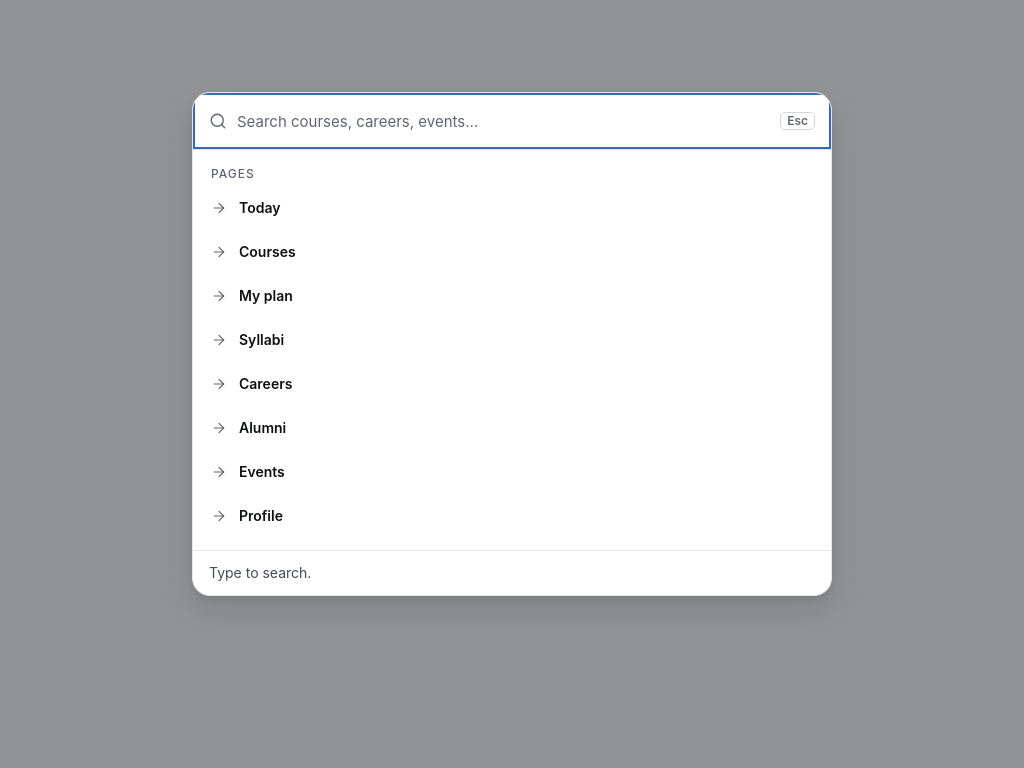
CommandPalette › ignores stale responses when the query changes
Type "la" into the dropdown at point(500, 121), box [237,93,762,149]
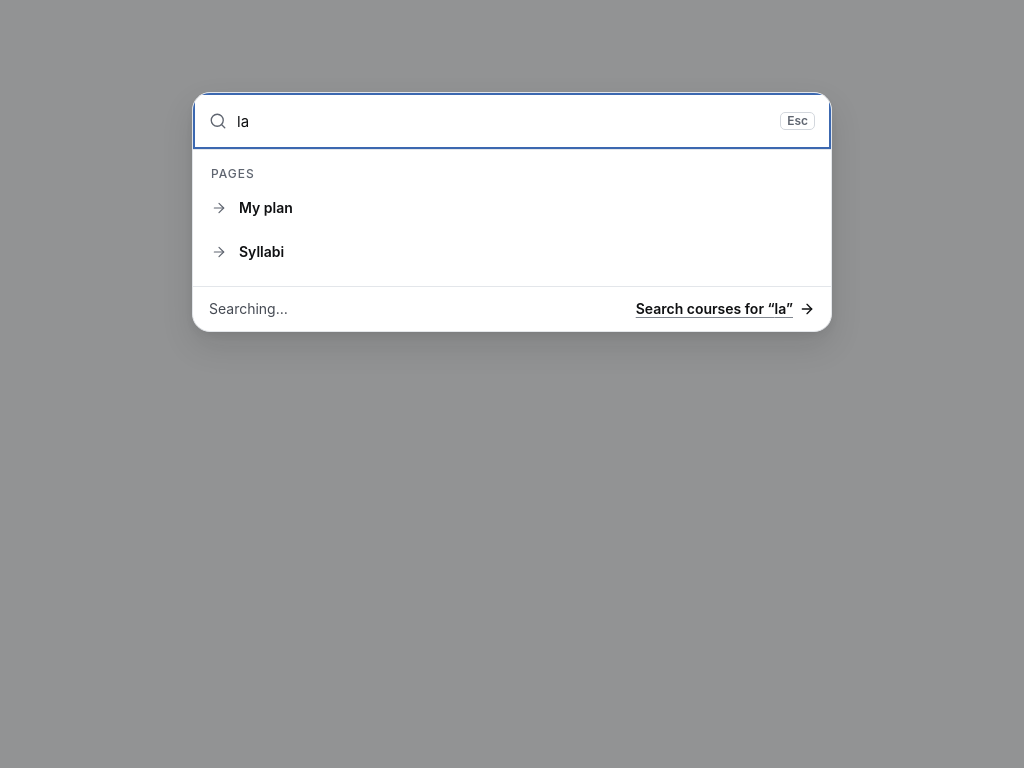
Type "w" into the dropdown at point(500, 121), box [237,93,762,149]
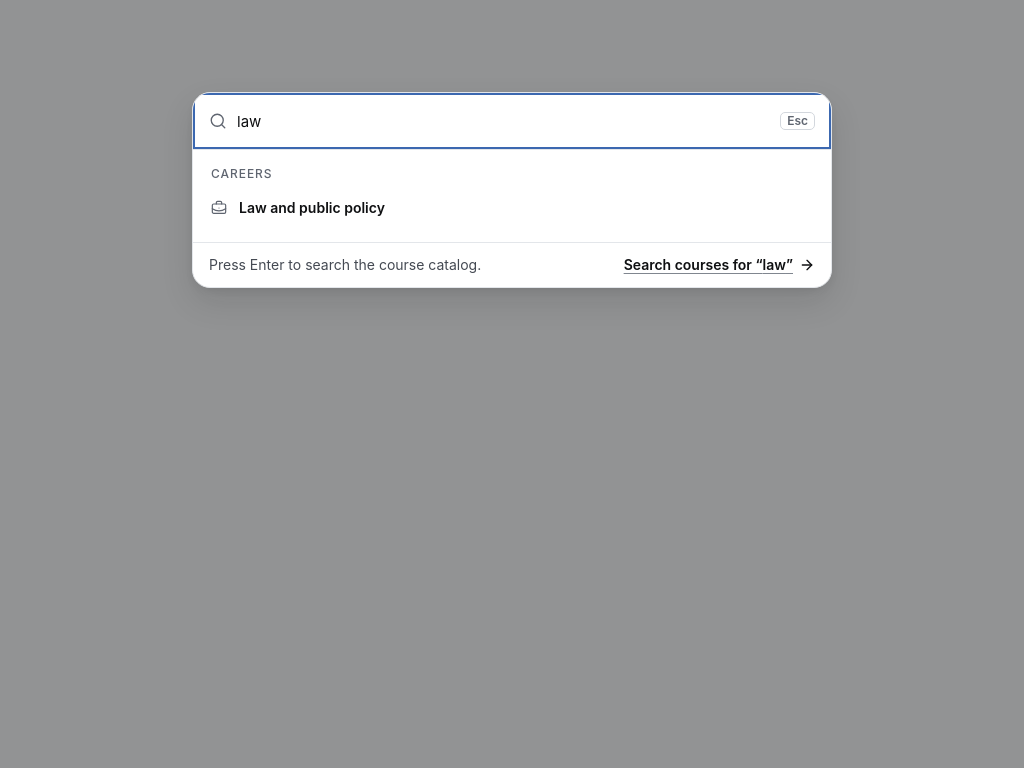
Check: the element "Careers" is shown, box [211,166,385,216]
